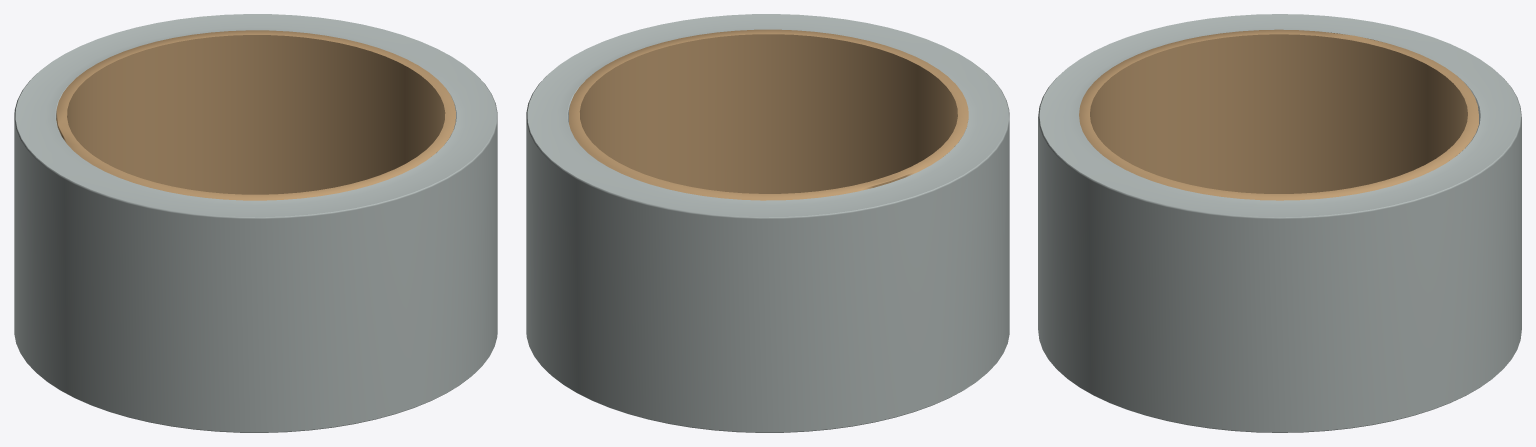
File: tape_clear_a02.glb
3 renders of one model, left to right at view 1: azimuth 30°, elevation 25°; view 2: azimuth 150°, elevation 25°; view 3: azimuth 270°, elevation 25°, orthographic.
Size of the model in its own units: 0.1001 by 0.05 by 0.1001.
